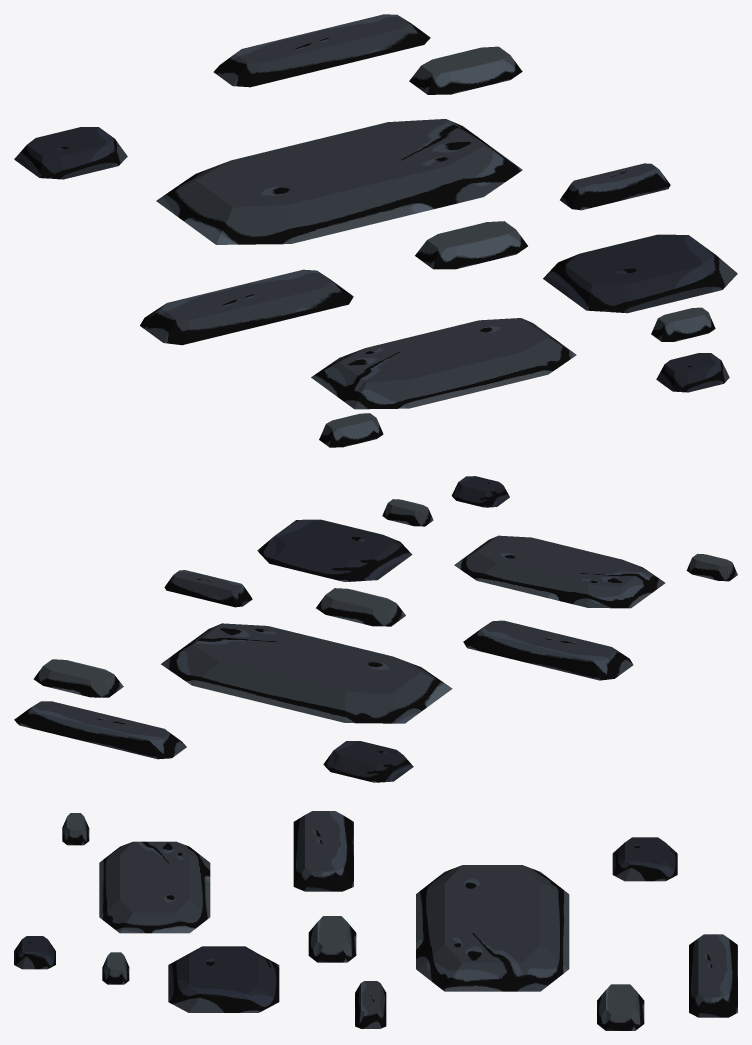
File: DaSort.fbx
3 views of the same model, one above another, from view 1: azimuth 30°, elevation 25°; view 2: azimuth 150°, elevation 25°; view 3: azimuth 270°, elevation 25° (orthographic). The views are drawn at different scales.
Visible parts, largest first — view 1: DaSort; view 2: DaSort; view 3: DaSort.
Boxes of the visible parts, bbox=[...] form: DaSort: bbox=[14, 14, 737, 447]; DaSort: bbox=[14, 476, 737, 782]; DaSort: bbox=[14, 811, 737, 1030].
Bounding box in the file's own units: 2.06 × 2.96 × 0.0805.
Materials: 1 (1 with a texture image).
